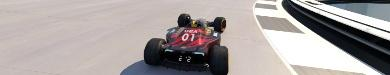Car: (143, 13, 228, 74)
Solid White and black: (251, 0, 389, 74)
grass: (0, 0, 389, 74)
